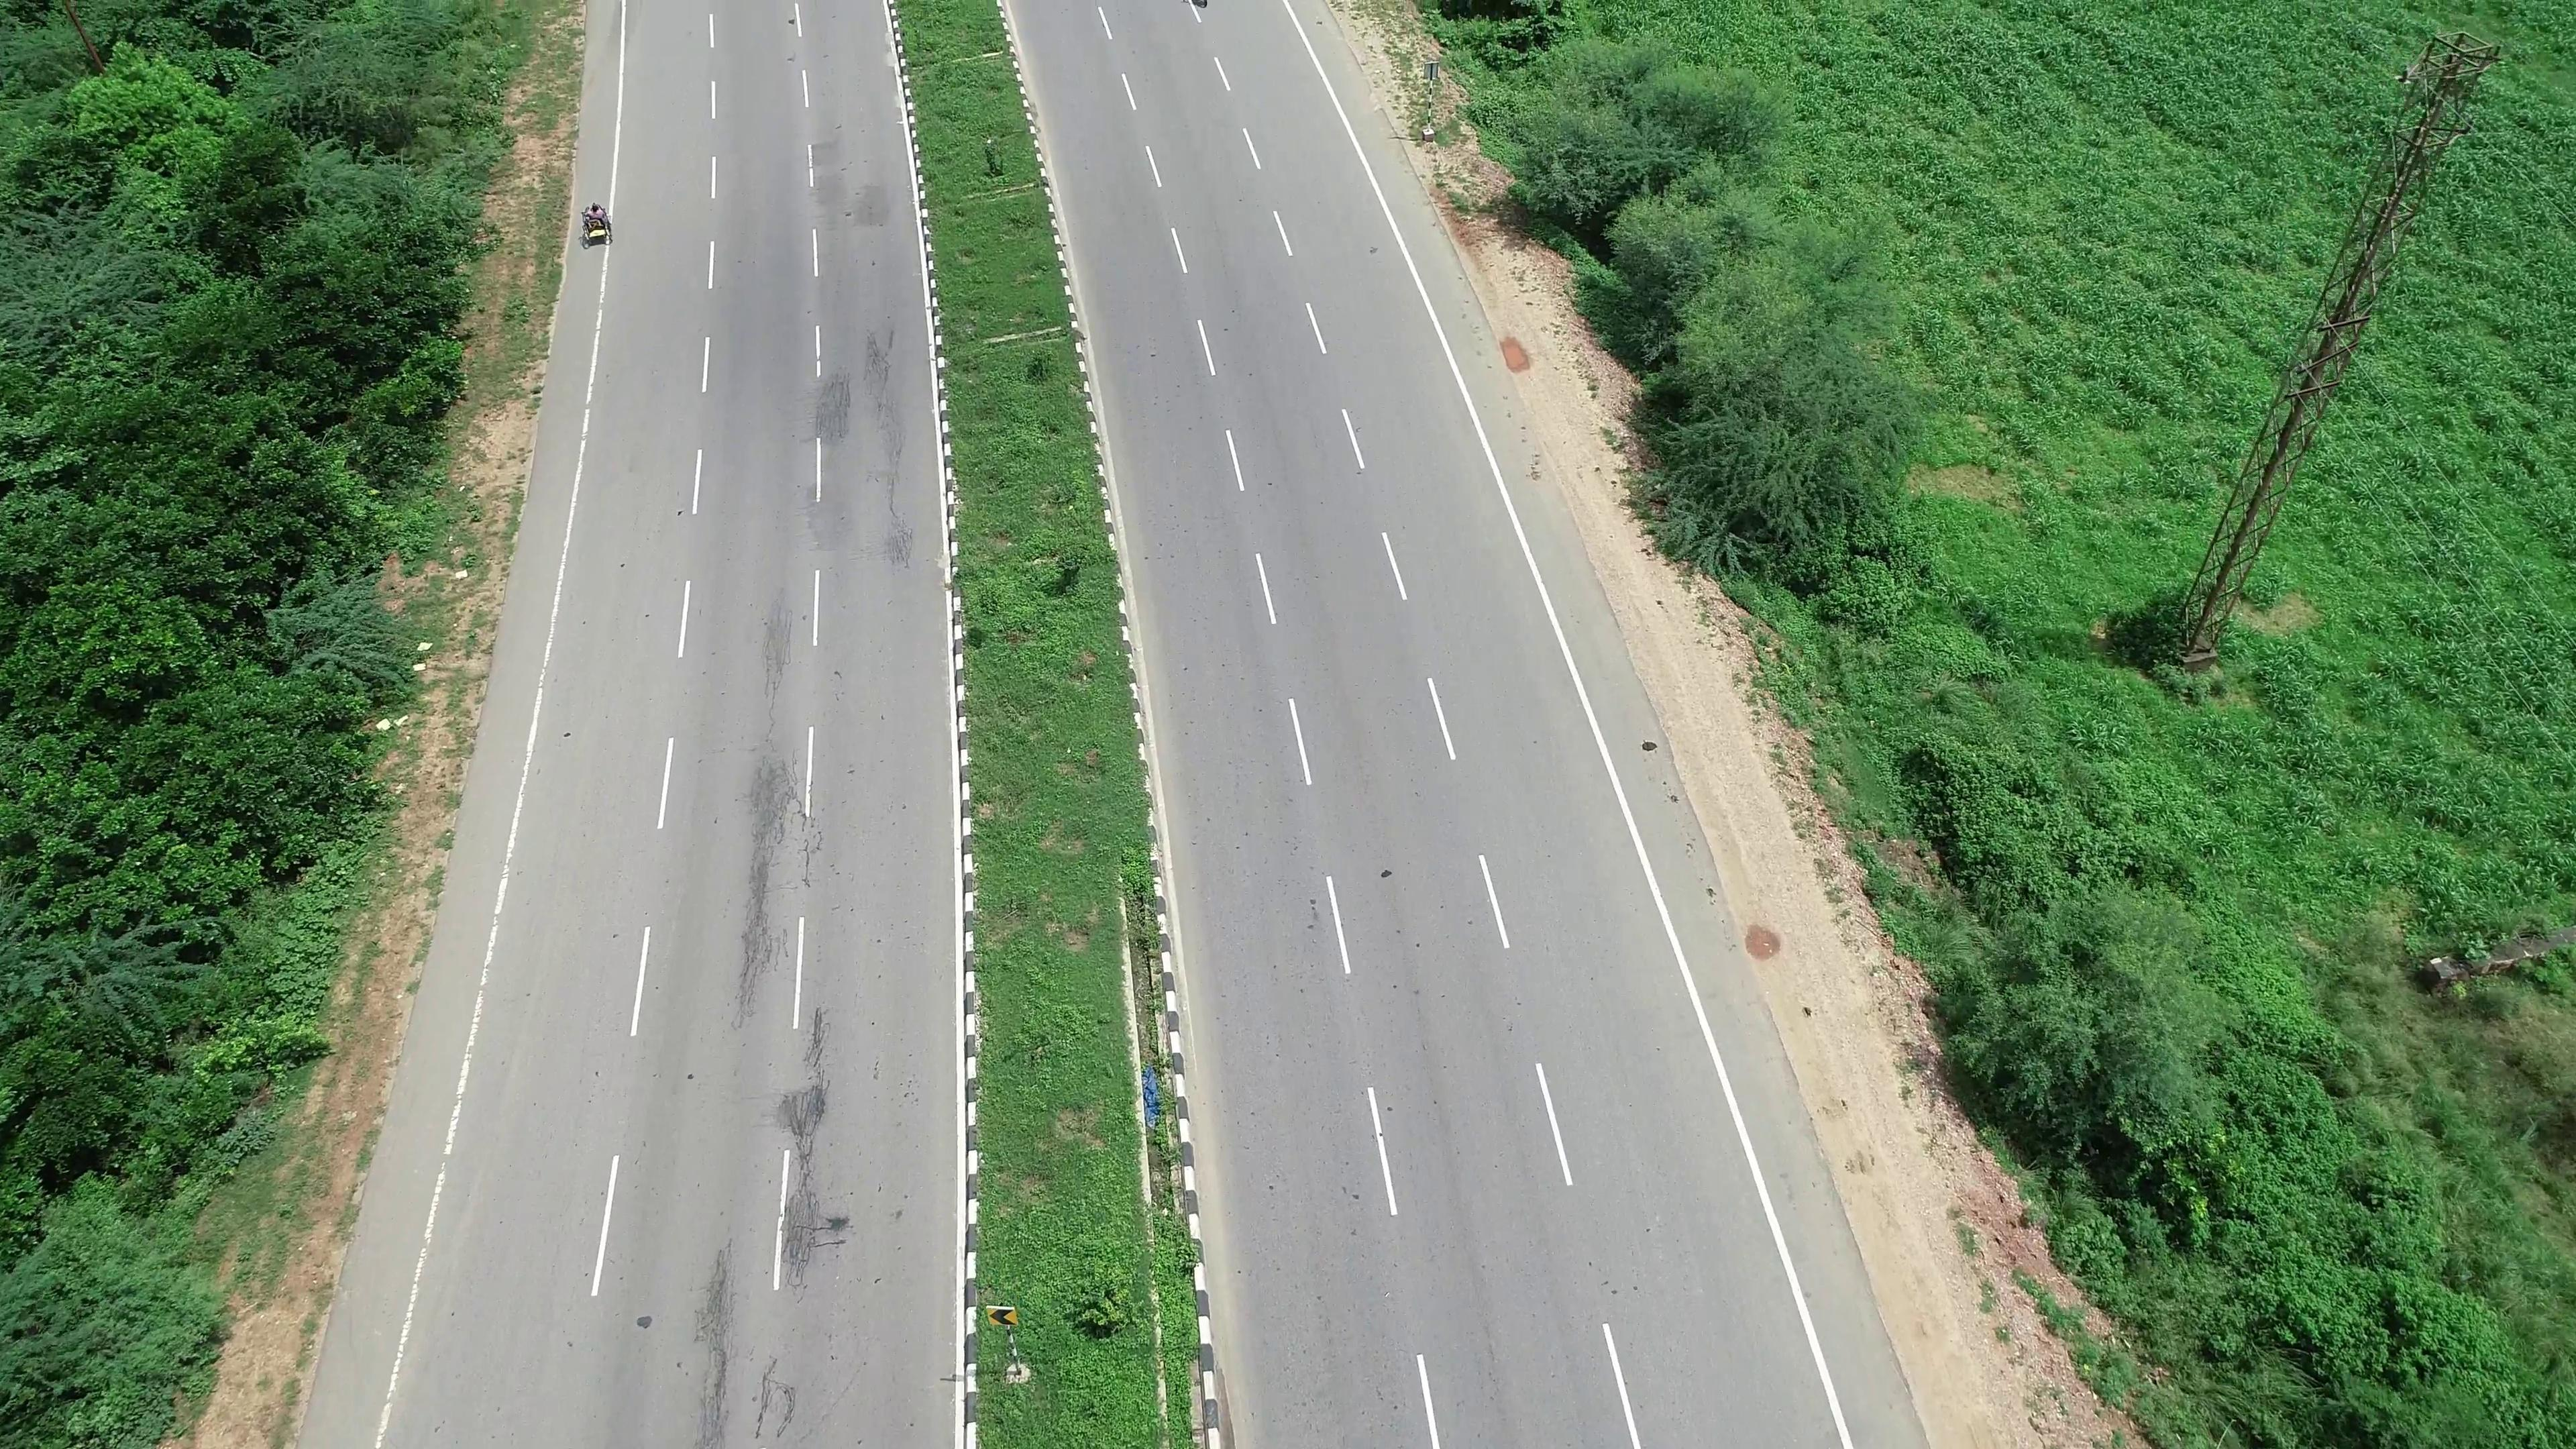Alligator_cracks: (766, 1003, 847, 1306), (734, 754, 809, 1007), (853, 341, 916, 563)
